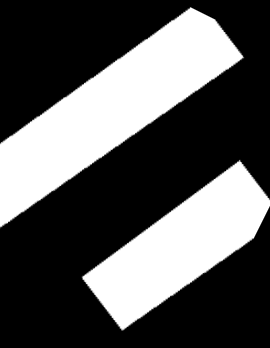parkingspot: (0, 7, 244, 227), (82, 160, 270, 330)
